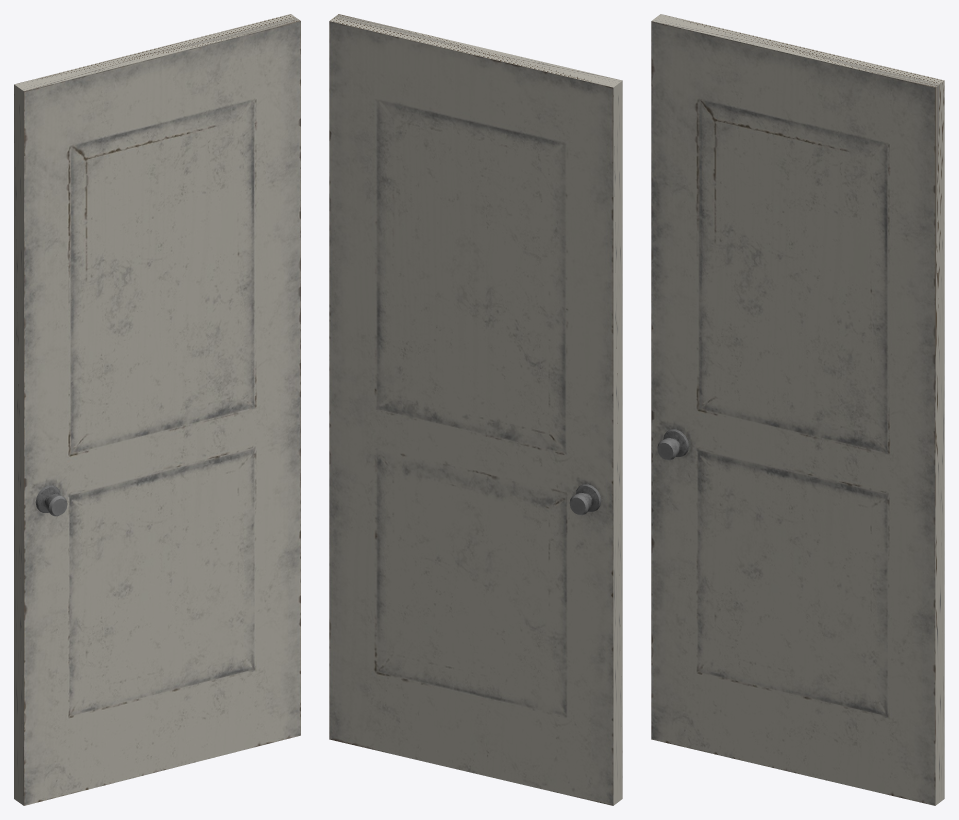
Rendered from hallgate.glb.
The picture shows the model from 3 angles, left to right: view 1: azimuth 30°, elevation 25°; view 2: azimuth 150°, elevation 25°; view 3: azimuth 330°, elevation 25°; orthographic projection.
Visible parts, largest first — view 1: Door_low.002_Door_0.003; view 2: Door_low.002_Door_0.003; view 3: Door_low.002_Door_0.003.
Part boxes in pixels (box(x1,y1,x2,y2)): Door_low.002_Door_0.003: box(14, 14, 300, 805); Door_low.002_Door_0.003: box(329, 14, 622, 805); Door_low.002_Door_0.003: box(651, 14, 944, 805).
Bounding box in the file's own units: 0.769 × 1.87 × 0.1507.
Materials: 1 (1 with a texture image).
